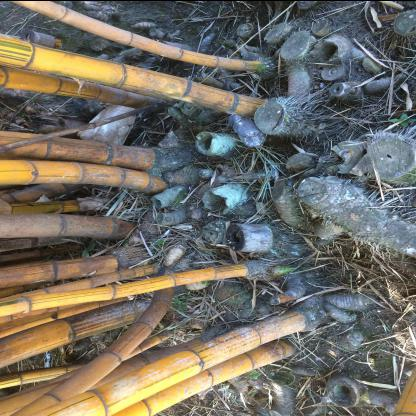plastik: (228, 111, 266, 147)
